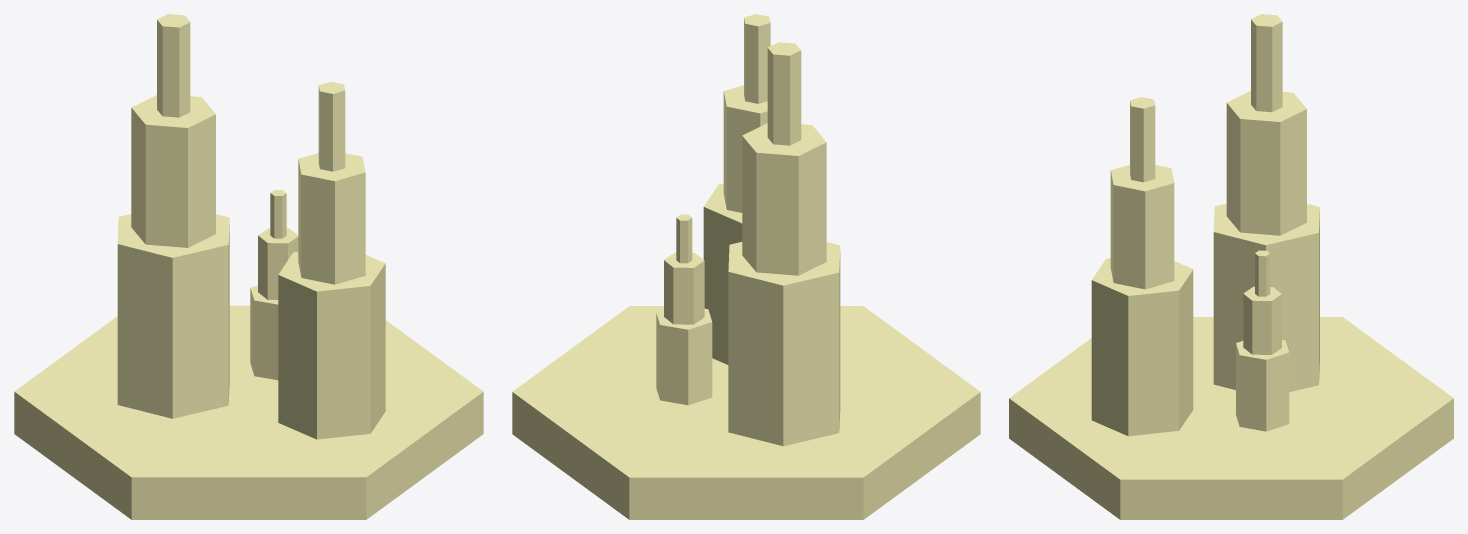
The model's file is stalactite.fbx.
3 renders of one model, left to right at view 1: azimuth 30°, elevation 25°; view 2: azimuth 150°, elevation 25°; view 3: azimuth 270°, elevation 25°, orthographic. The views are drawn at different scales.
Visible parts, largest first — view 1: Cylinder; view 2: Cylinder; view 3: Cylinder.
Boxes of the visible parts, x1=… form: Cylinder: x1=14, y1=14, x2=483, y2=519; Cylinder: x1=512, y1=14, x2=980, y2=519; Cylinder: x1=1009, y1=14, x2=1453, y2=519.
Size of the model in its own units: 173 by 194 by 200.
